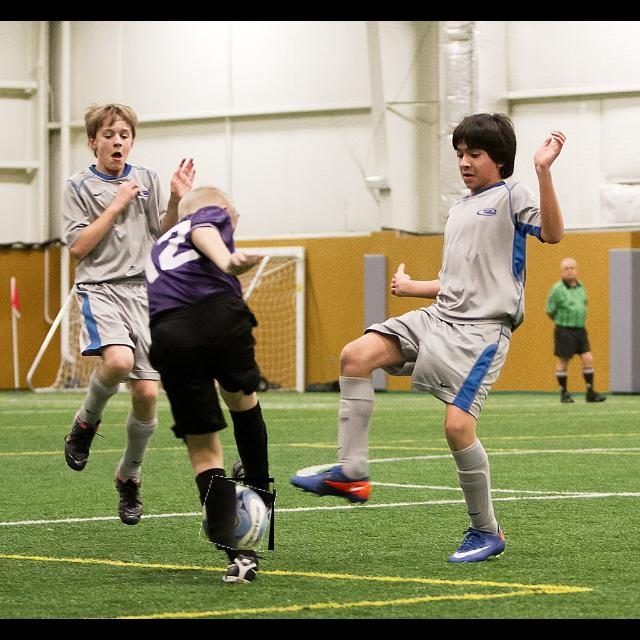Football: (202, 478, 274, 550)
